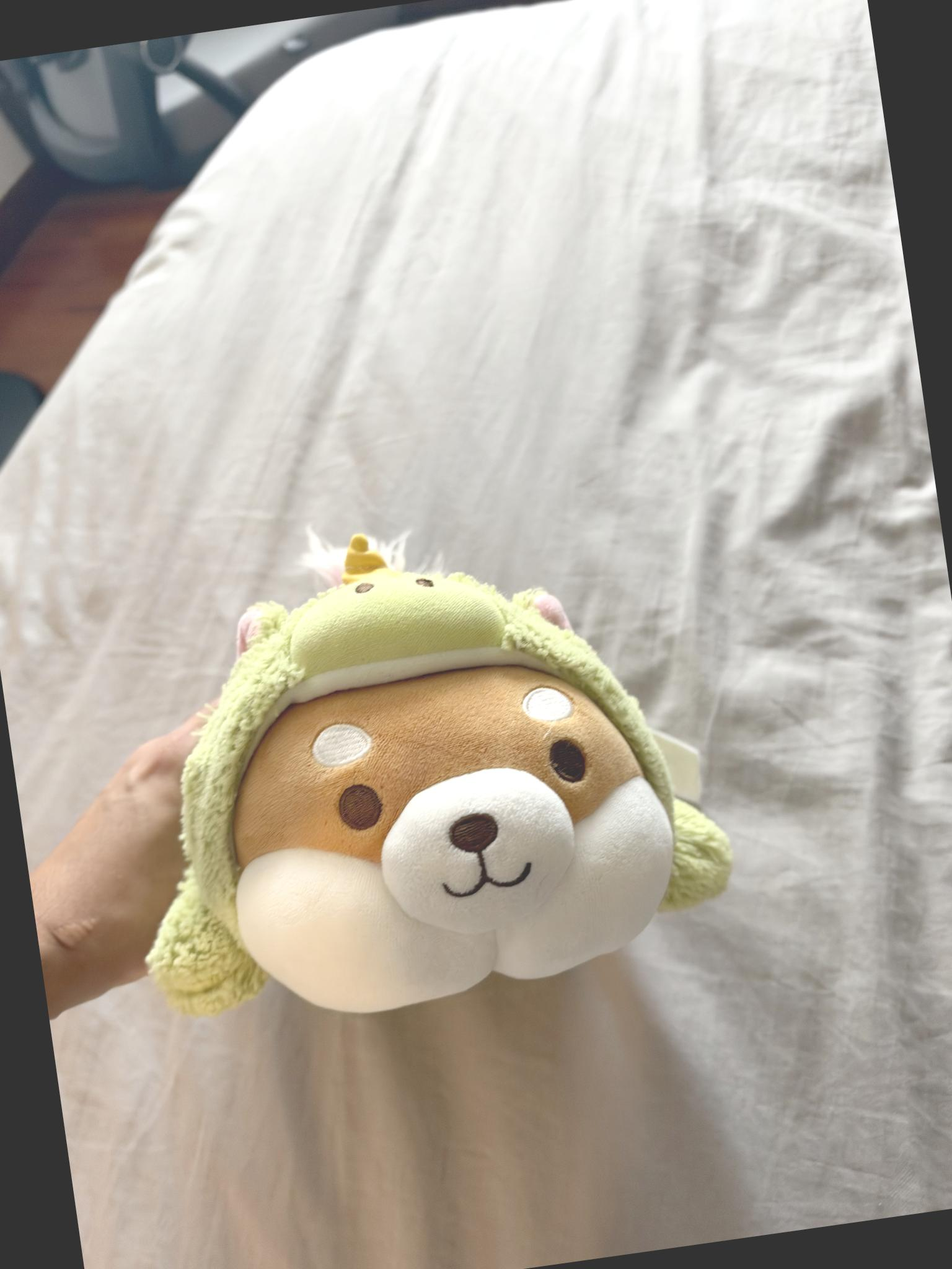peluche_martin: (83, 474, 751, 1045)
